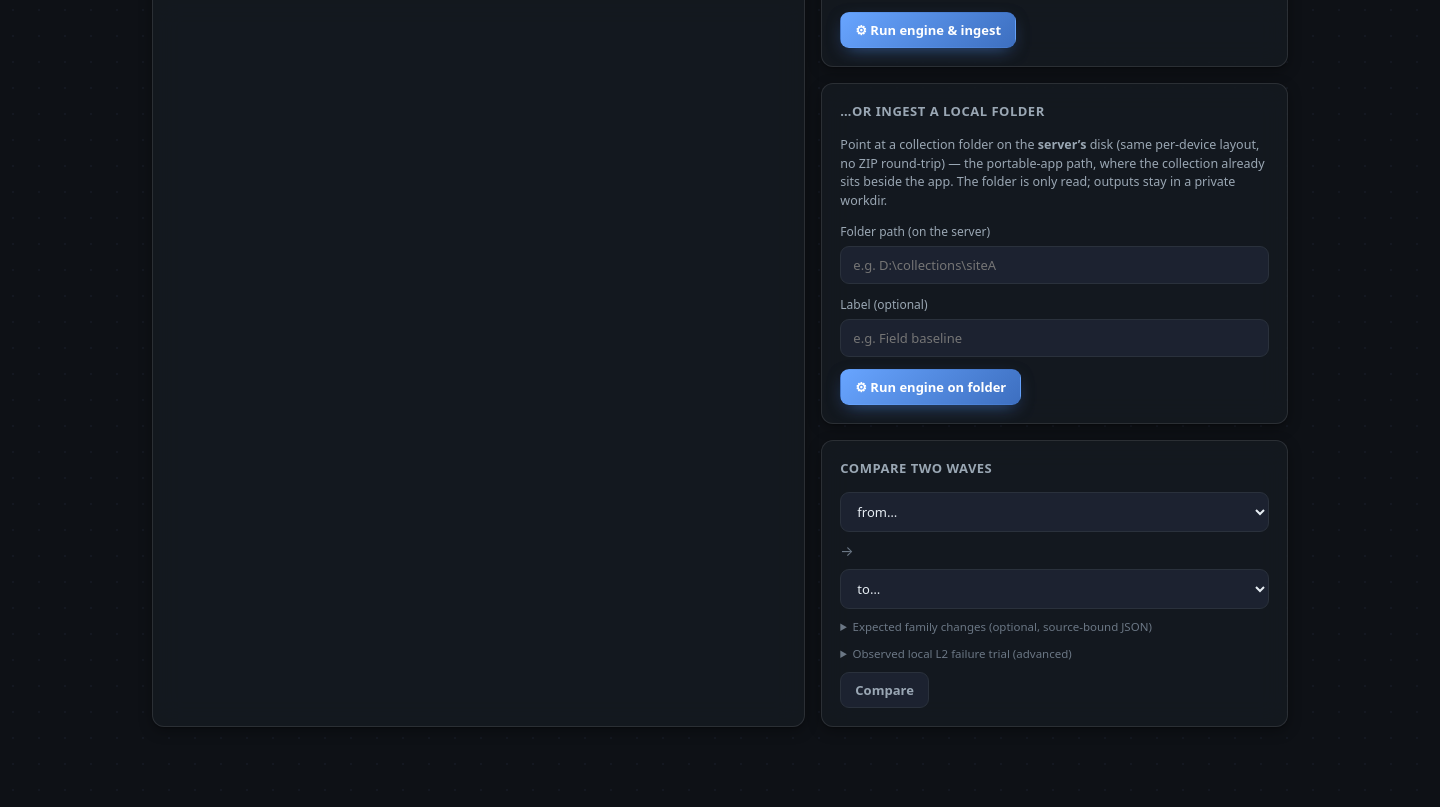
CampaignPage · coverage honesty and stale state › FE-5: an un-assessed cabling delta is neutral, never the healthy green
(page scrolled)
Expected: the heading "Compare two waves" is shown, [840,459,992,477]
Select "Wave 1" in the 1st dropdown: x=1055, y=512 [840,492,1269,532]
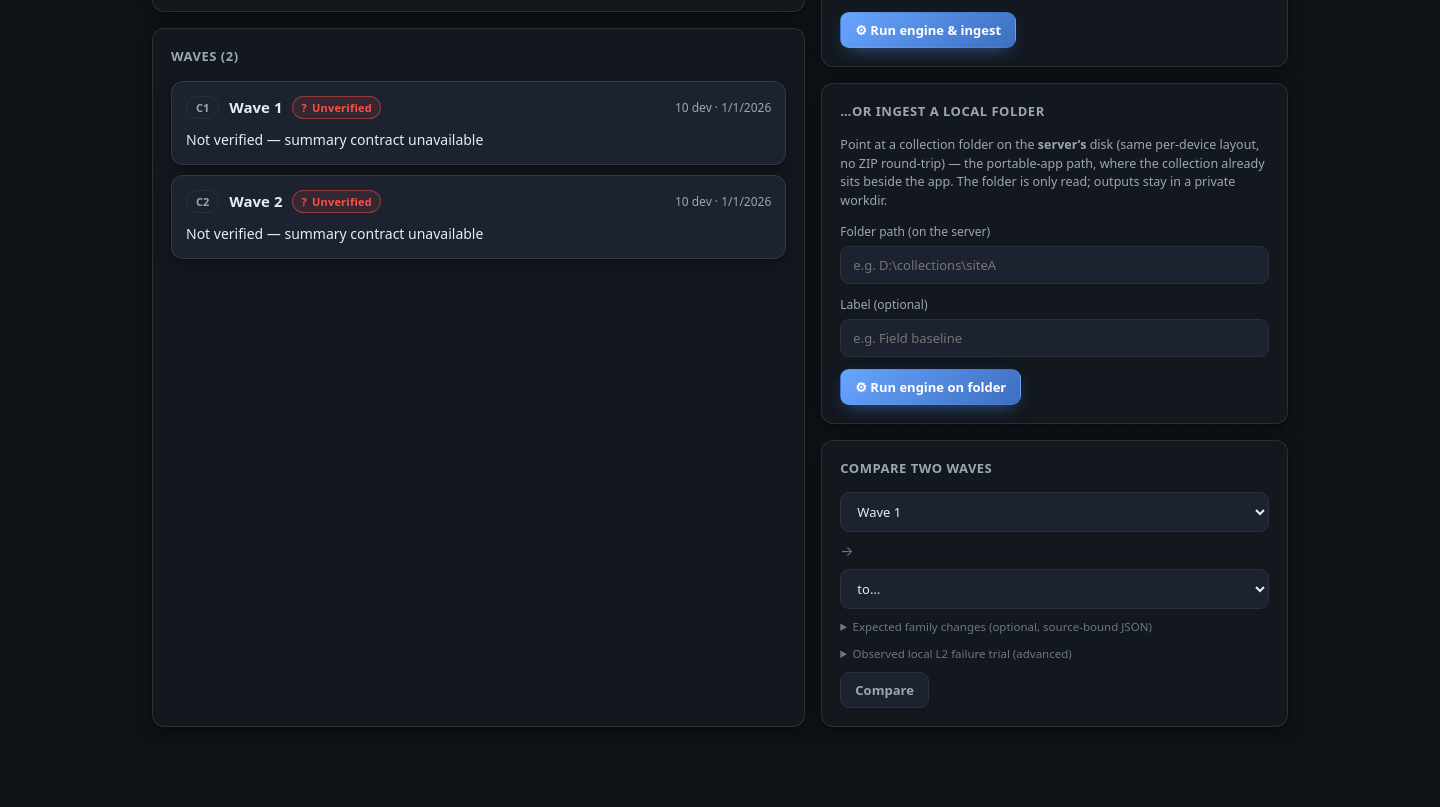
Select "Wave 2" in the 2nd dropdown: x=1055, y=589 [840,569,1269,609]
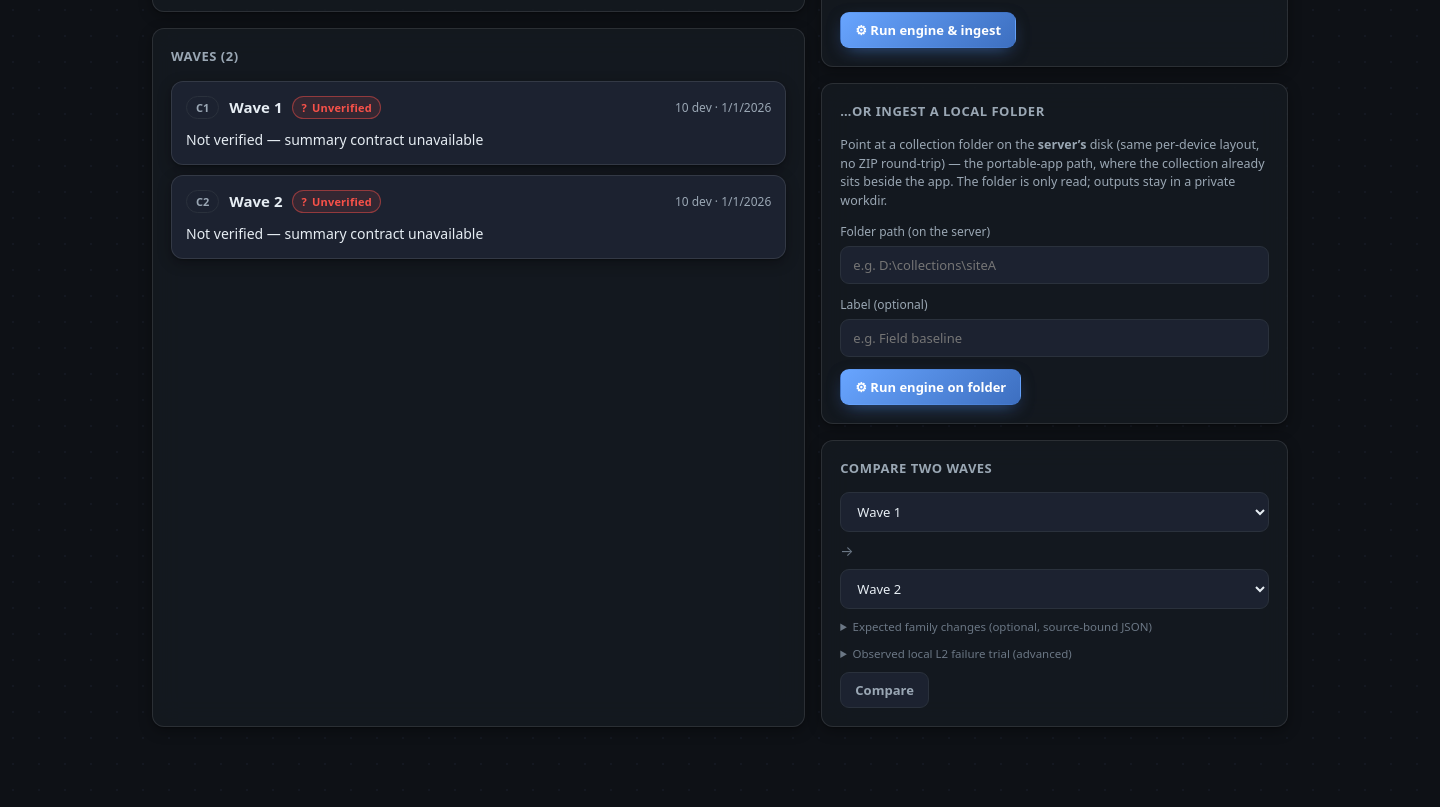
Click the button "Compare": x=885, y=690 [840,672,929,708]
(page scrolled)
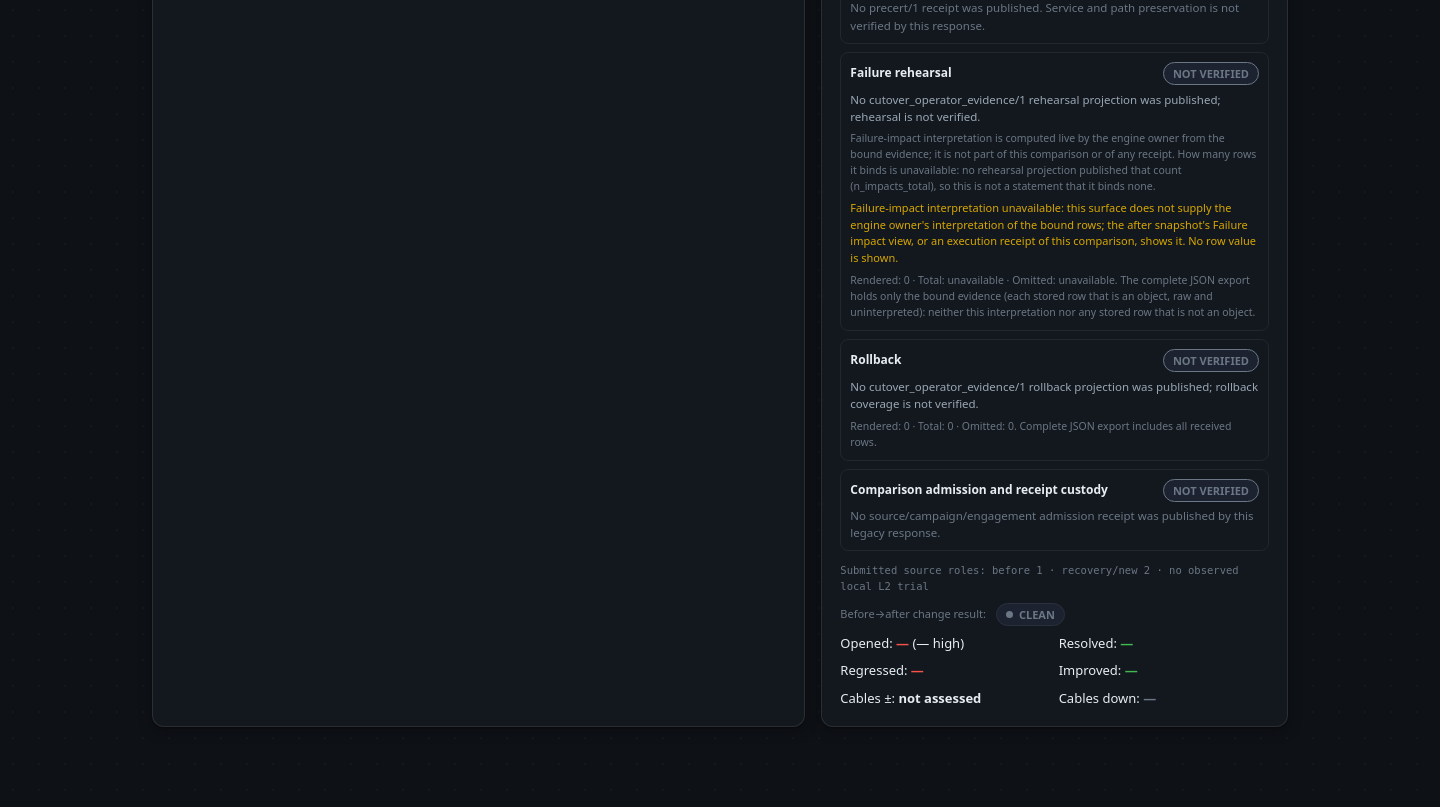
Now the text "—" next to "Cables down:" is shown, box [1143,688,1156,706]
Now the text "not assessed" is shown, box [898,688,981,706]
